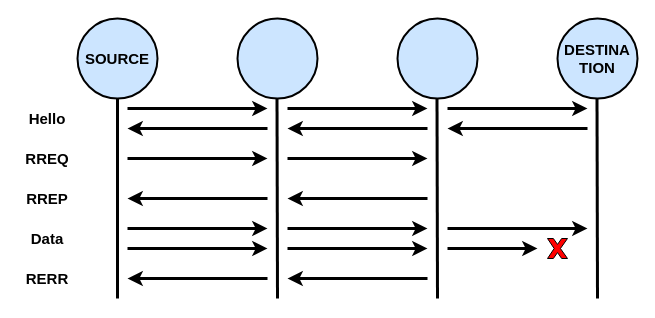
Image size: 655x318. Some labels were removed from this diagram. The centre of each missing label's shape, as x and y in pixels:
"HOP 1" goes at (x=277, y=58).
"HOP 2" goes at (x=437, y=58).
